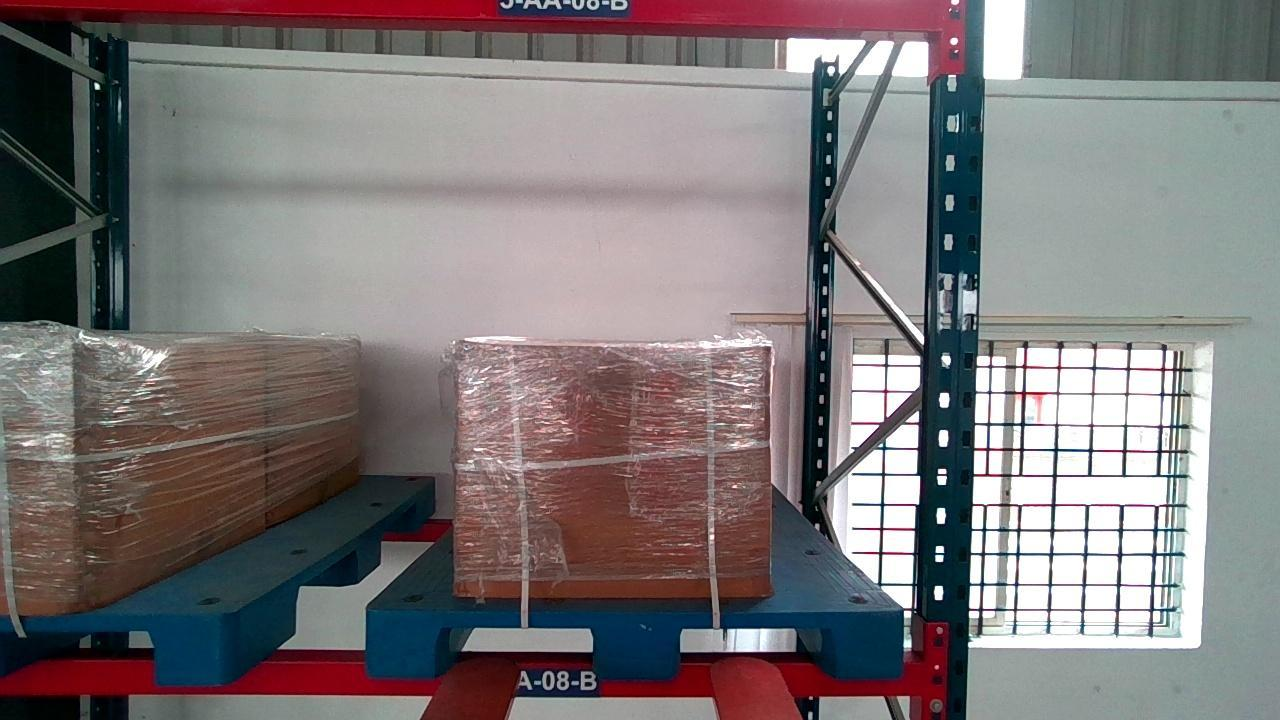h_rack: (2, 651, 918, 697), (1, 0, 939, 31)
small_pallet: (362, 608, 904, 678)
